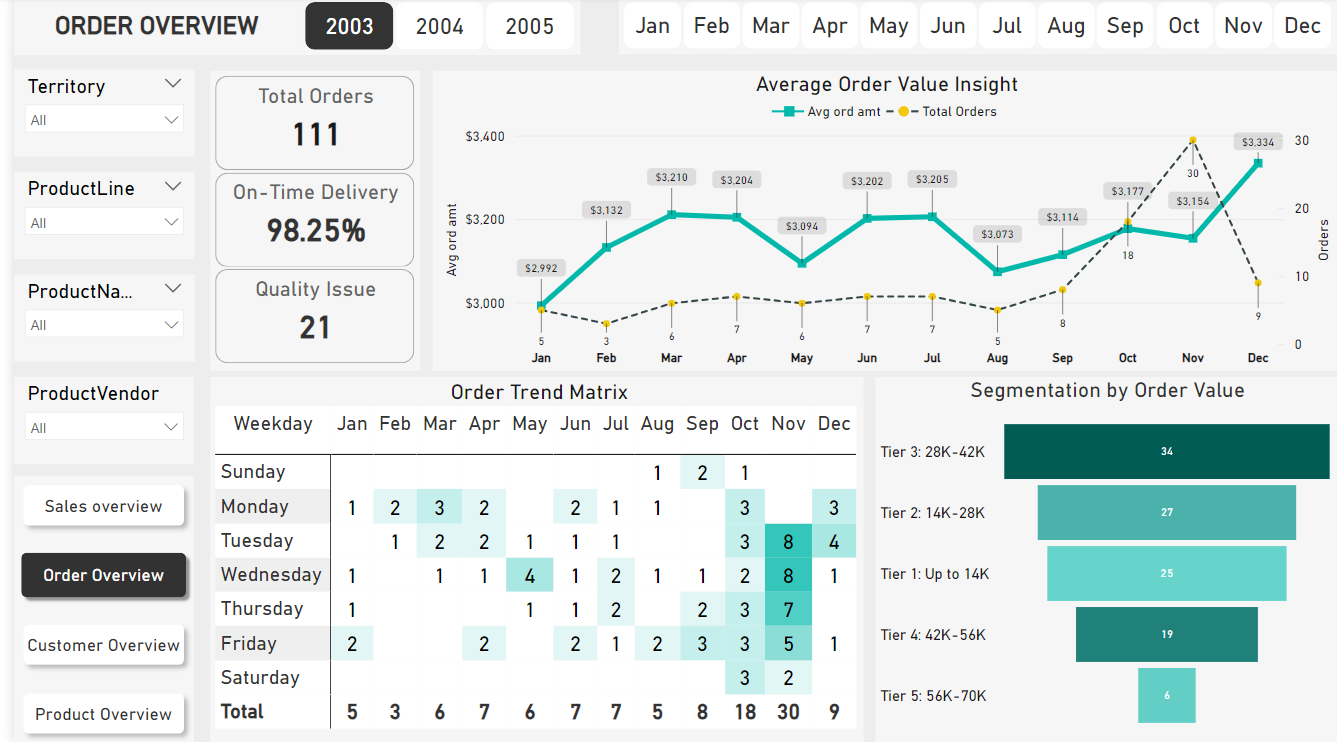

The page's visual inventory and layout, read from the dashboard file:
{"tool":"powerbi","page":{"name":"Order Overview","canvas":[1280,720],"ordinal":1},"visuals":[{"type":"textbox","box":[0,0,275.7,55.7],"z":0},{"type":"advancedSlicerVisual","fields":{"Values":["Date.Date.Variation.Date Hierarchy.Year"]},"box":[276.3,0,270.2,56.2],"z":1000},{"type":"advancedSlicerVisual","fields":{"Values":["Date.Month"]},"box":[583.3,0,696.7,55.6],"z":2000},{"type":"slicer","fields":{"Values":["dimoffices.Territory"]},"box":[0,70,174.3,84.3],"z":3000},{"type":"slicer","fields":{"Values":["dimproducts.ProductLine"]},"box":[0,168.6,174.3,84.3],"z":4000},{"type":"slicer","fields":{"Values":["dimproducts.ProductName"]},"box":[0,267.1,174.3,84.3],"z":5000},{"type":"slicer","fields":{"Values":["dimproducts.ProductVendor"]},"box":[0,366.2,173.8,83.8],"z":6000},{"type":"cardVisual","fields":{"Data":["Measures (2).Total Orders","Measures (2).On-Time Delivery","Measures (2).Quality Issue"]},"box":[189.3,71.2,202.6,289.4],"z":7000},{"type":"pivotTable","title":"Order Trend Matrix","fields":{"Rows":["Date.Weekday"],"Columns":["Date.Month"],"Values":["Measures (2).Total Orders"]},"box":[189,366.5,630.5,353.5],"z":8000},{"type":"lineChart","title":"Average Order Value Insight","fields":{"Y":["Measures (2).Avg ord amt"],"Y2":["Measures (2).Total Orders"],"Category":["Date.Month"]},"box":[404,70.7,875.8,290],"z":9000},{"type":"funnel","title":"Segmentation by Order Value","fields":{"Category":["factorders.Order Segment"],"Y":["Count(factorders.OrderNumber)"]},"box":[831,366.6,448.6,353.4],"z":10000},{"type":"pageNavigator","box":[0,461.9,173.7,258.1],"z":11000}]}

Visuals, with their boxes in screenshot pixels (x1, y1, x2, y2), scaled from the page's 1280x720 canvas onto the 1337x742 screenshot:
textbox: [x1=0, y1=0, x2=288, y2=57]
advancedSlicerVisual - Date.Date.Variation.Date Hierarchy.Year: [x1=289, y1=0, x2=571, y2=58]
advancedSlicerVisual - Date.Month: [x1=609, y1=0, x2=1336, y2=57]
slicer - dimoffices.Territory: [x1=0, y1=72, x2=182, y2=159]
slicer - dimproducts.ProductLine: [x1=0, y1=174, x2=182, y2=261]
slicer - dimproducts.ProductName: [x1=0, y1=275, x2=182, y2=362]
slicer - dimproducts.ProductVendor: [x1=0, y1=377, x2=182, y2=464]
cardVisual - Measures (2).Total Orders x Measures (2).On-Time Delivery: [x1=198, y1=73, x2=409, y2=372]
"Order Trend Matrix" pivotTable: [x1=197, y1=378, x2=856, y2=741]
"Average Order Value Insight" lineChart: [x1=422, y1=73, x2=1336, y2=372]
"Segmentation by Order Value" funnel: [x1=868, y1=378, x2=1336, y2=741]
pageNavigator: [x1=0, y1=476, x2=181, y2=741]
